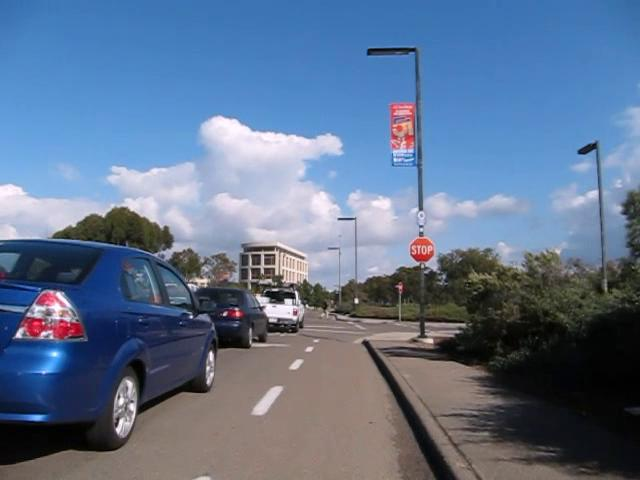stop: (408, 236, 435, 262)
